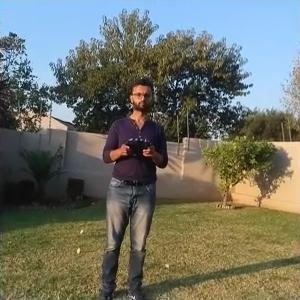follow: (96, 73, 175, 298)
